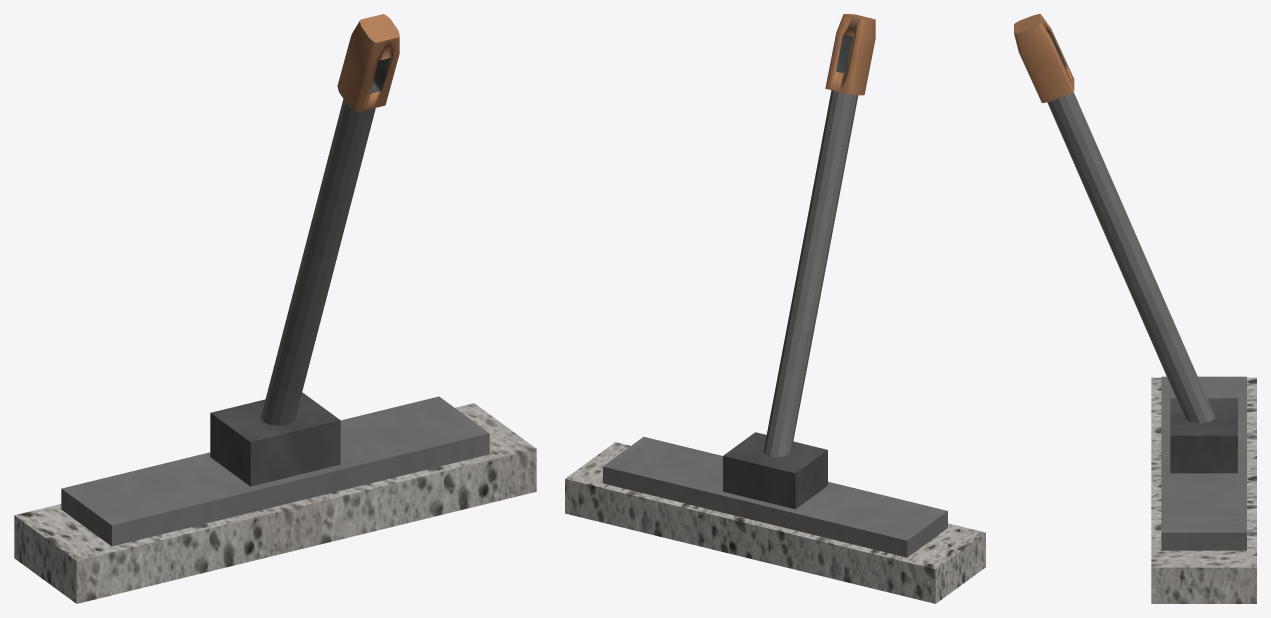
Rendered from Lap 1.fbx.
The picture shows the model from 3 angles, left to right: view 1: azimuth 30°, elevation 25°; view 2: azimuth 150°, elevation 25°; view 3: azimuth 270°, elevation 25°; orthographic projection. The views are drawn at different scales.
Parts seen in each view (by area): view 1: cap; view 2: cap; view 3: cap.
Part boxes in pixels (x1,y1,x2,y2): cap: (14, 14, 536, 603); cap: (565, 14, 985, 603); cap: (1014, 14, 1256, 603).
Size of the model in its own units: 86.06 by 104 by 46.48.
Materials: 2 (2 with a texture image).
